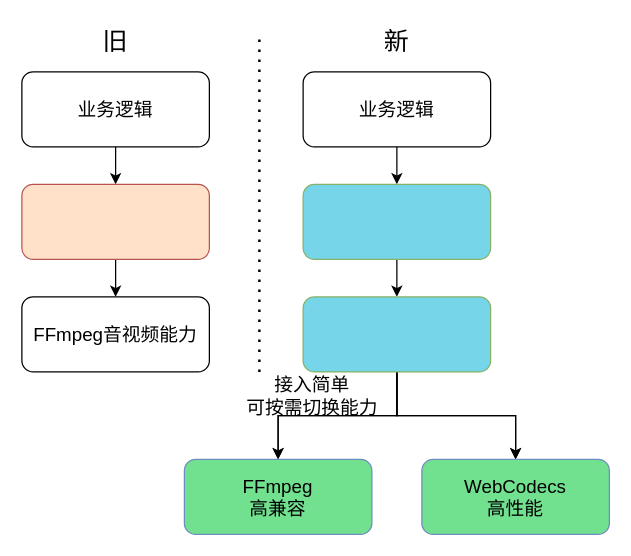
This 631x556 diagram has some shape labels left out. The centre of each missing label's shape, as x and y in pixels:
"FFmpeg命令参数 复杂" belongs at [115,221].
"合成场景JSON" belongs at [396,221].
"翻译和执行模块" belongs at [396,334].
